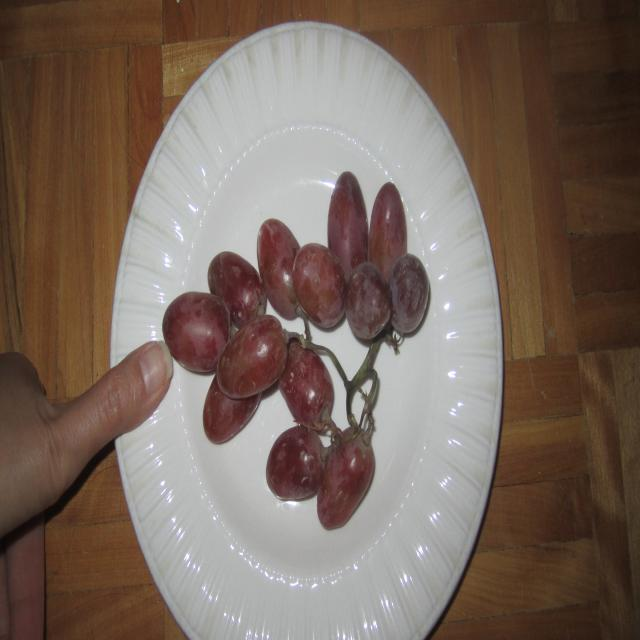grapes: (162, 169, 430, 530)
